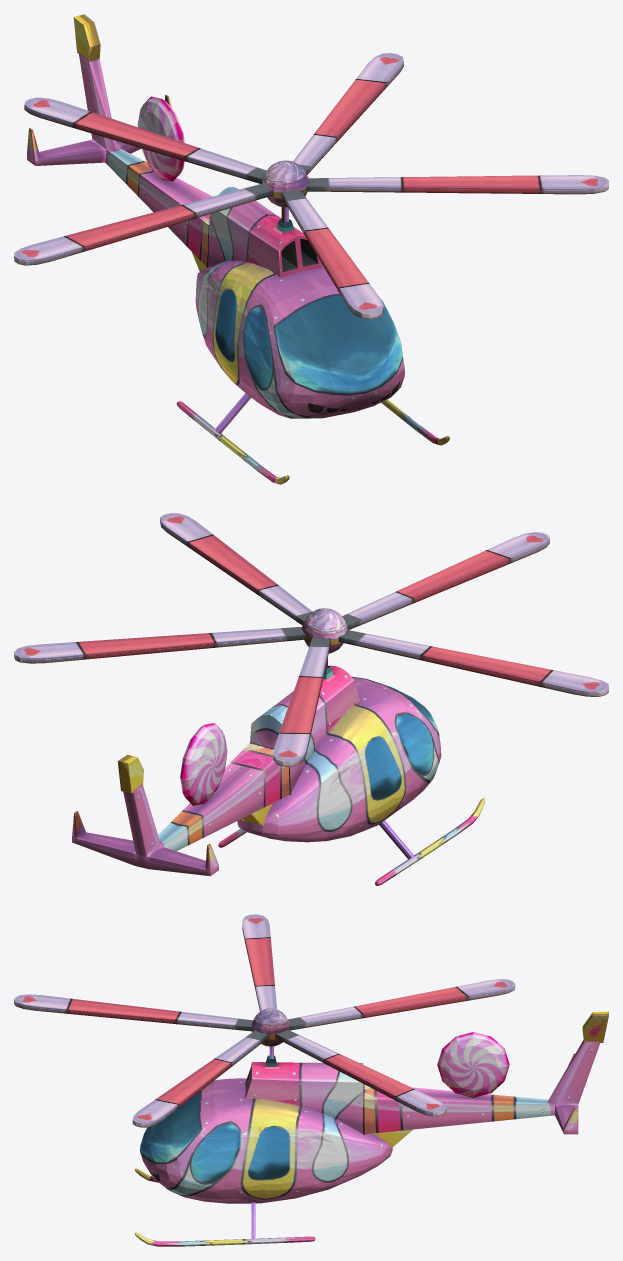
File: candy_helicopter.fbx
The picture shows the model from 3 angles, top to bottom: view 1: azimuth 30°, elevation 25°; view 2: azimuth 150°, elevation 25°; view 3: azimuth 270°, elevation 25°; orthographic projection. The views are drawn at different scales.
Parts seen in each view (by area): view 1: candy_helicopter; view 2: candy_helicopter; view 3: candy_helicopter.
Boxes of the visible parts, <box> form: candy_helicopter: <box>14,14,608,484</box>; candy_helicopter: <box>14,513,608,885</box>; candy_helicopter: <box>14,914,608,1246</box>.
Size of the model in its own units: 11.46 by 5.23 by 13.79.
1 material, 1 textured.
